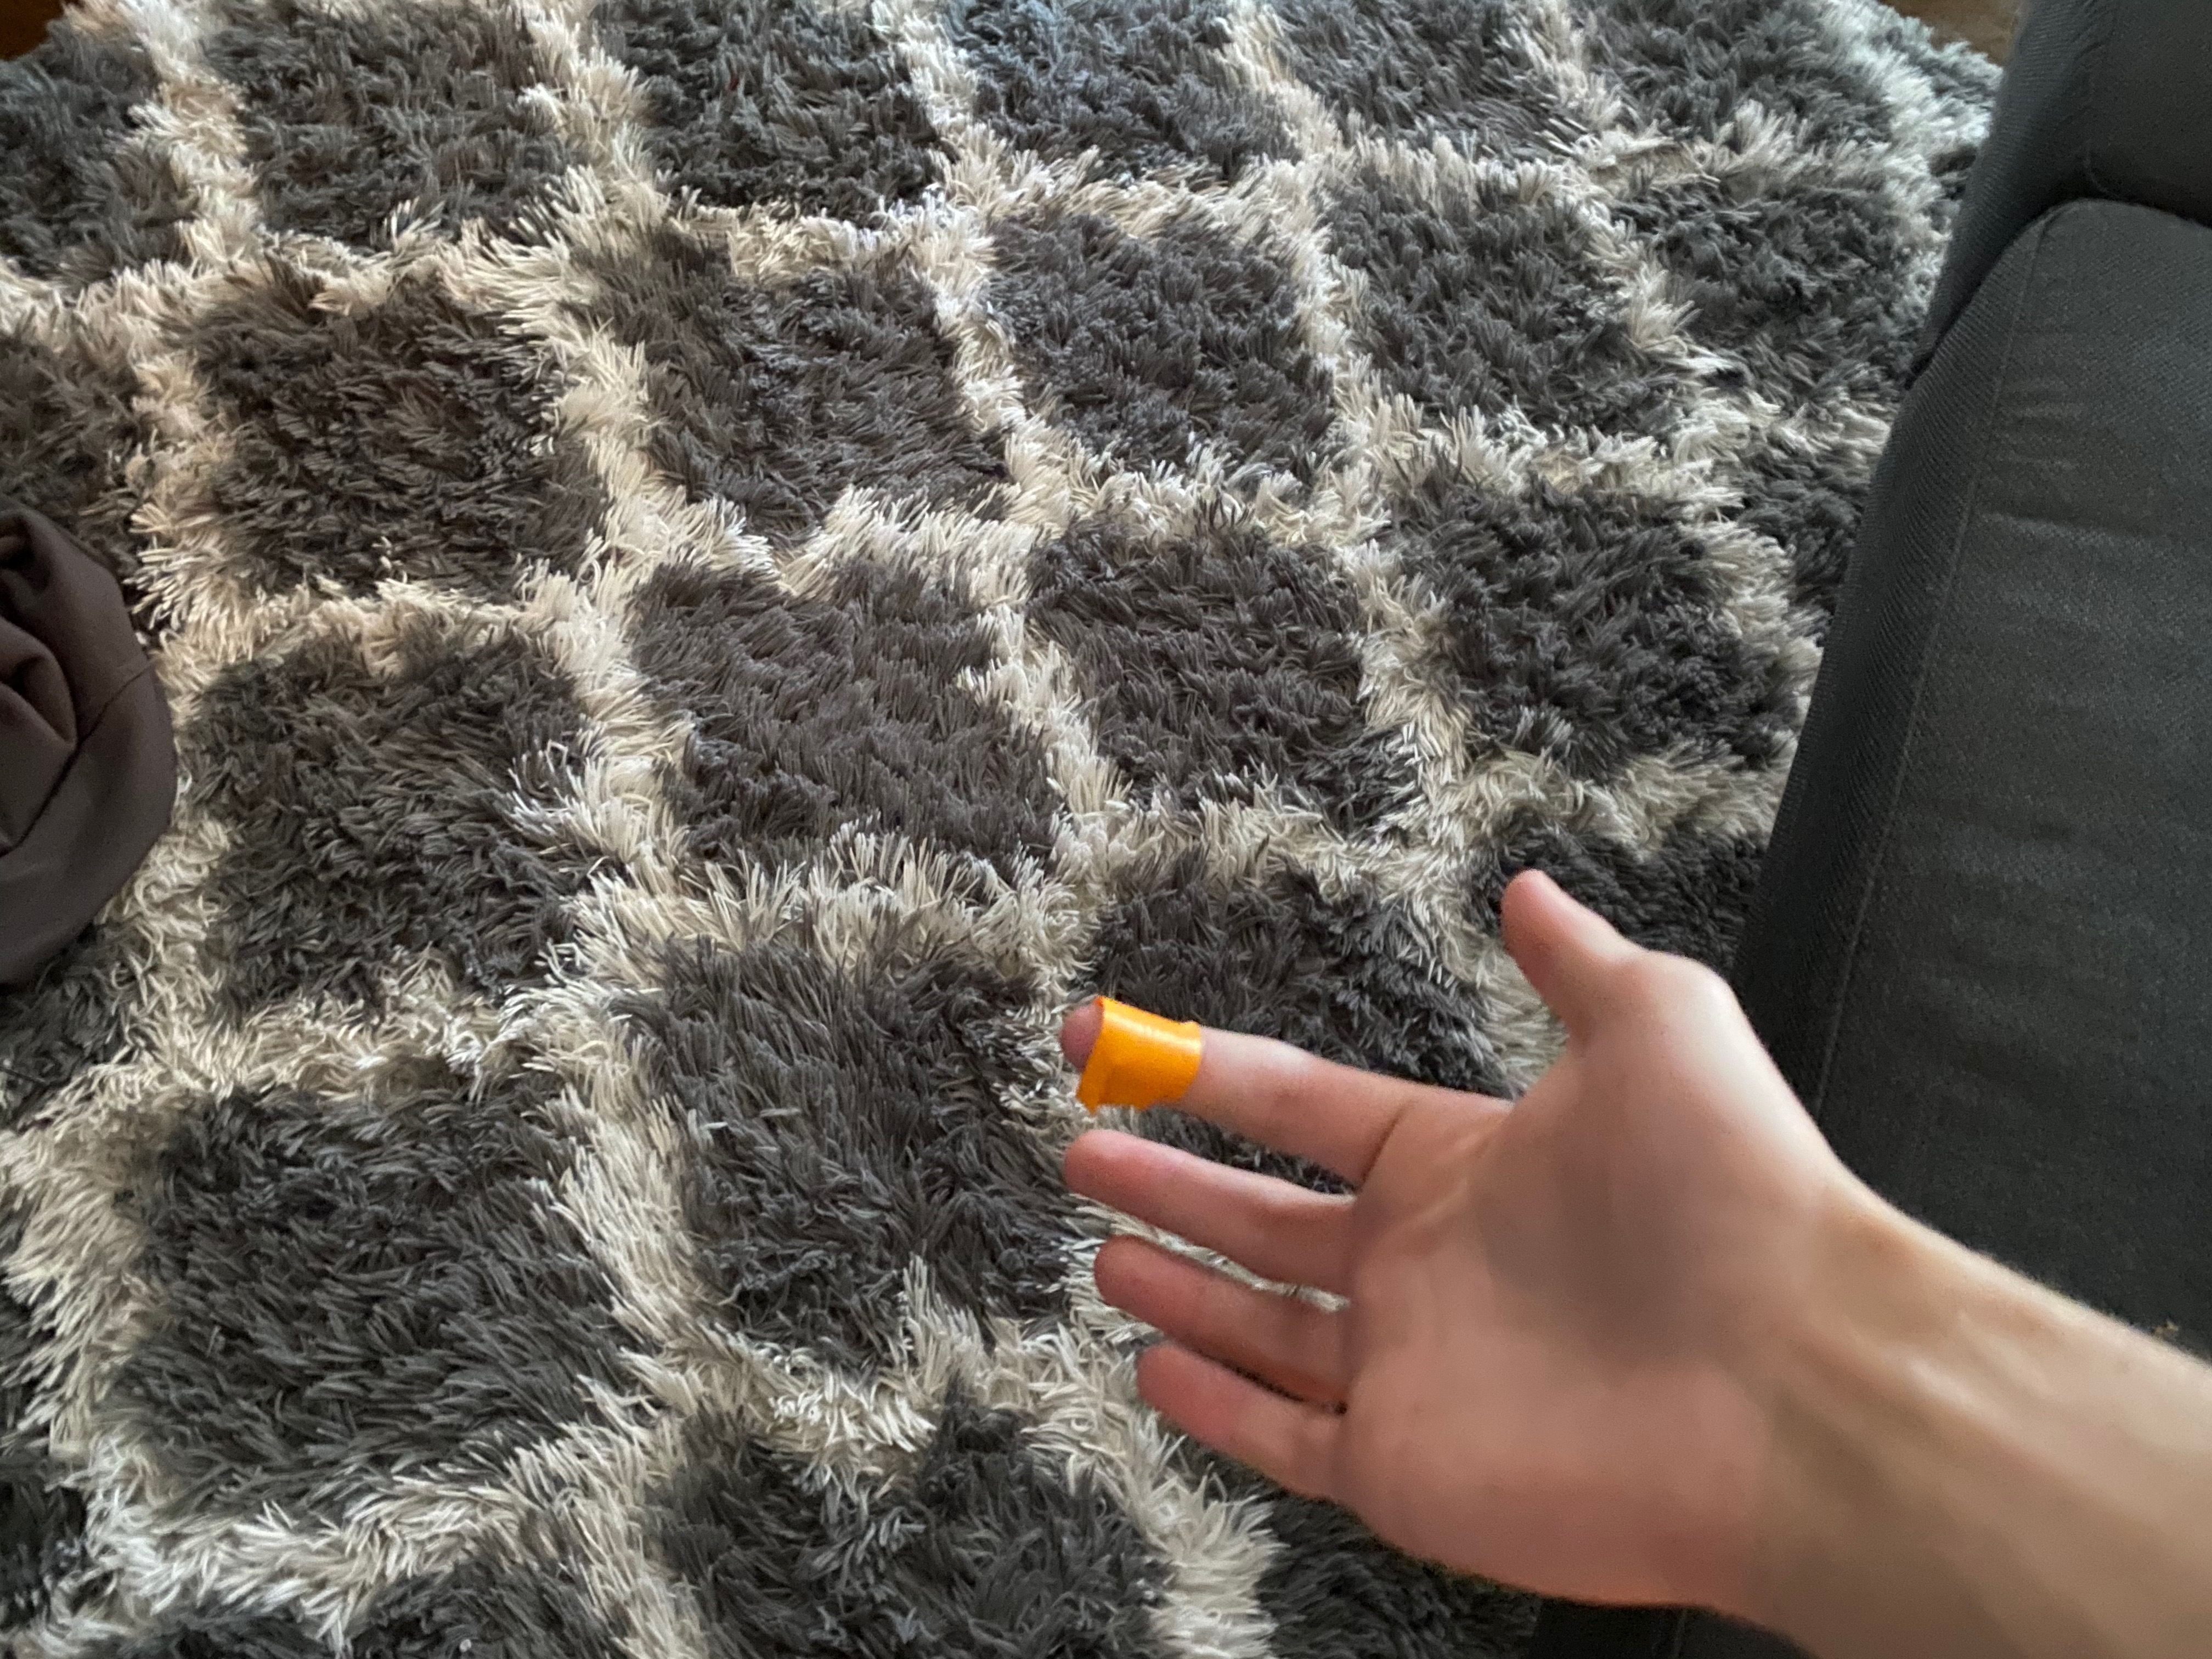fingertip: (1071, 990, 1258, 1121)
